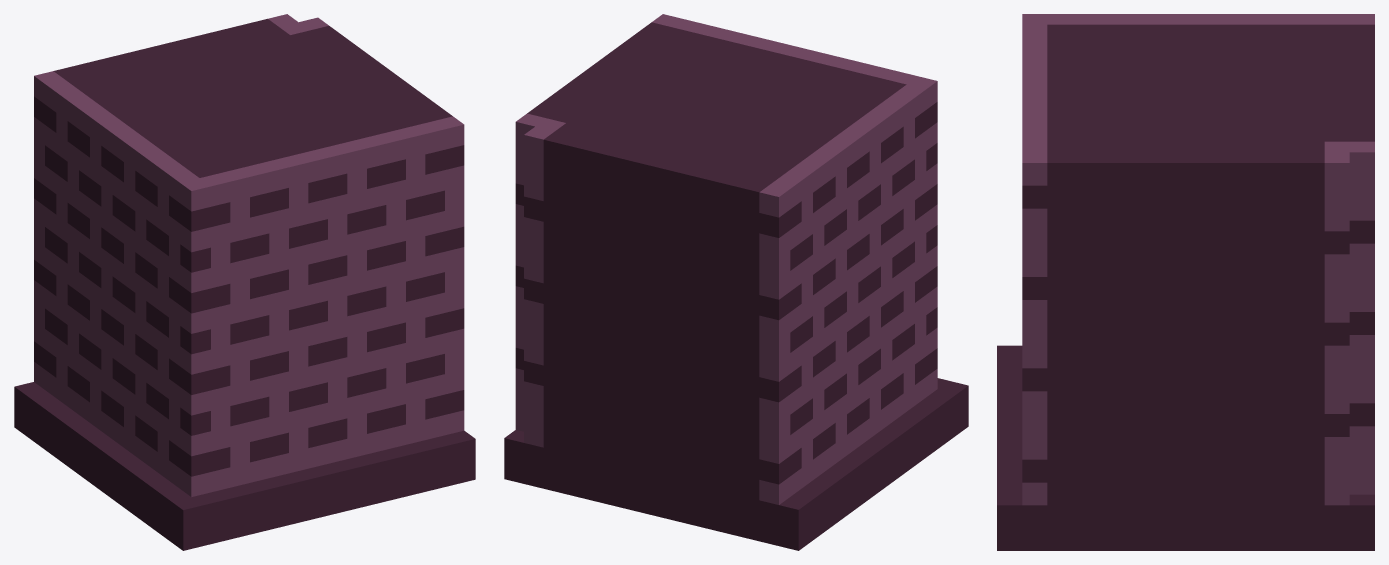
File: dungeon_c_b_inner_wall_corner_b.obj
3 views of the same model, side by side, from view 1: azimuth 30°, elevation 25°; view 2: azimuth 150°, elevation 25°; view 3: azimuth 270°, elevation 25° (orthographic). The views are drawn at different scales.
Size of the model in its own units: 1.5 by 1.7 by 1.5.
1 material, 1 textured.
